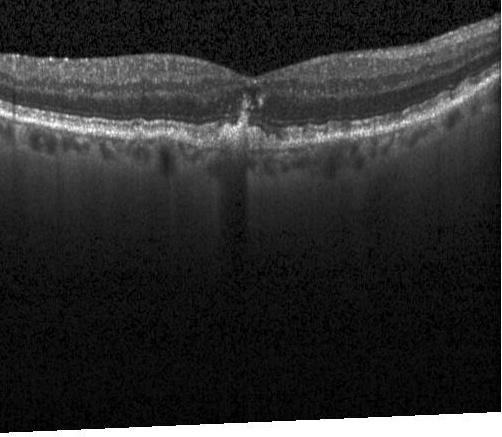retinal_drusen: (401, 112, 426, 126), (247, 130, 264, 150), (235, 123, 245, 149), (323, 124, 338, 141), (301, 127, 316, 144), (220, 128, 231, 148), (150, 136, 176, 144), (463, 84, 475, 98), (268, 134, 279, 148), (133, 130, 144, 143), (289, 128, 299, 142), (342, 123, 351, 138)
